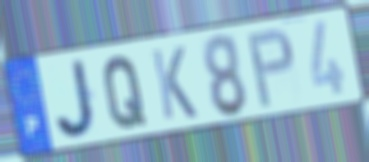4: (308, 17, 347, 99)
8: (201, 31, 248, 119)
J: (53, 56, 101, 142)
K: (149, 44, 201, 123)
P: (245, 25, 297, 111)
Q: (101, 53, 150, 132)
